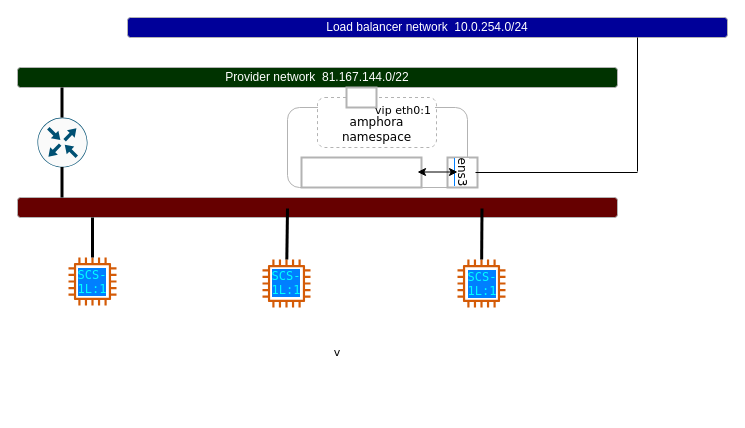
Some shapes in this 745 by 428 pixel diagram are drawn without their labels. Each missing label, with the centre of its shape:
amphora-agent: point 361,172
eth1: point 361,97
Internal network VXLAN/Geneve 192.168.248.0/24: point 317,207
